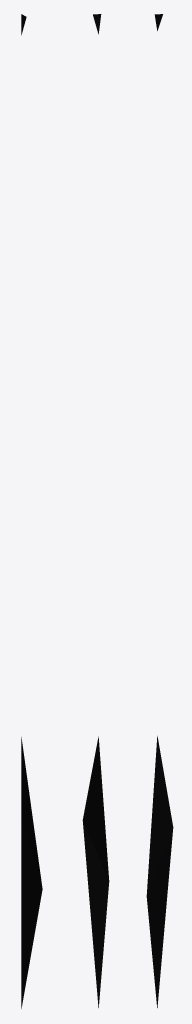
3 views of the same model, side by side, from view 1: azimuth 90°, elevation 25°; view 2: azimuth 150°, elevation 25°; view 3: azimuth 330°, elevation 25° (orthographic).
Size of the model in its own units: 0.0361 by 2.16 by 0.0418.
1 material, 1 textured.
